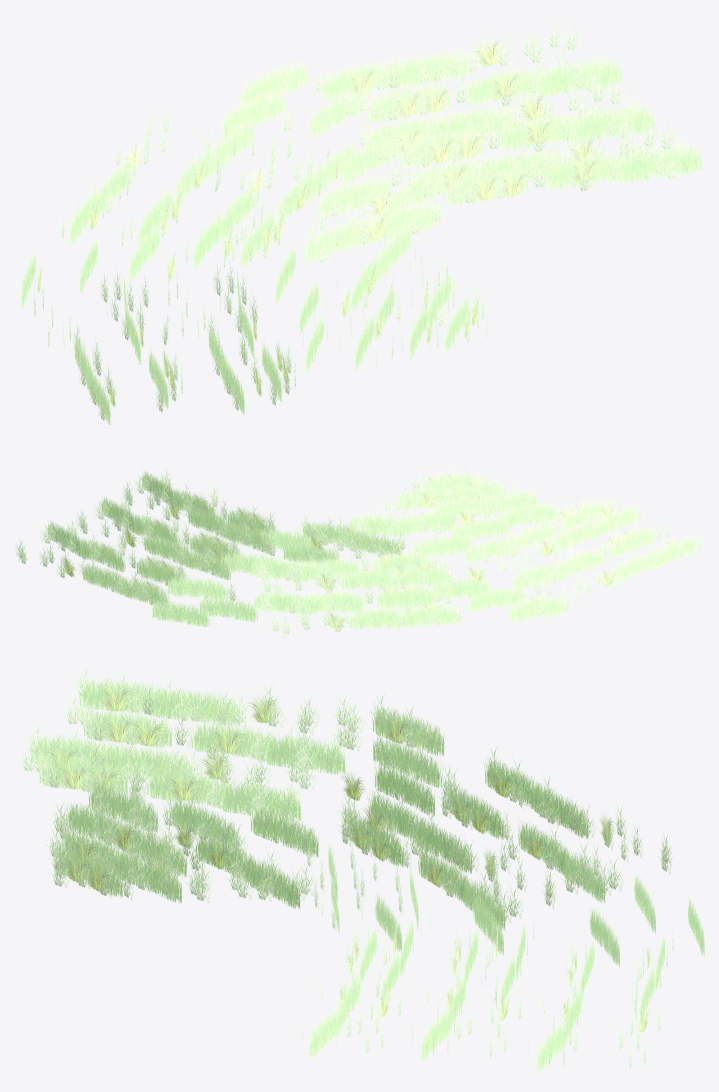
The model's file is Grama.glb.
The picture shows the model from 3 angles, top to bottom: view 1: azimuth 30°, elevation 25°; view 2: azimuth 150°, elevation 25°; view 3: azimuth 270°, elevation 25°; orthographic projection. The views are drawn at different scales.
Visible parts, largest first — view 1: GramaC.017, GramaC.024, GramaC.030, GramaC.028, GramaC.022, GramaC.016, GramaC.023, GramaC.029, GramaC.018, GramaC.055, GramaC.054, GramaC.011 (+28 smaller); view 2: GramaC.049, GramaC.031, GramaC.007, GramaC.048, GramaC.054, GramaC.055, GramaC, GramaC.051, GramaC.047, GramaC.052, GramaC.010, GramaC.053 (+44 smaller); view 3: GramaC.039, GramaC.036, GramaC.041, GramaC.034, GramaC.035, GramaC.040, GramaC.047, GramaC.038, GramaC.051, GramaC.037, GramaC.009, GramaC.052 (+29 smaller).
Boxes of the visible parts, x1=… form: GramaC.017: x1=615, y1=144, x2=703, y2=183; GramaC.024: x1=568, y1=103, x2=655, y2=143; GramaC.030: x1=536, y1=57, x2=622, y2=97; GramaC.028: x1=386, y1=49, x2=471, y2=89; GramaC.022: x1=430, y1=103, x2=515, y2=142; GramaC.016: x1=542, y1=151, x2=629, y2=189; GramaC.023: x1=496, y1=111, x2=582, y2=151; GramaC.029: x1=463, y1=65, x2=549, y2=104; GramaC.018: x1=316, y1=175, x2=391, y2=218; GramaC.055: x1=238, y1=60, x2=309, y2=108; GramaC.054: x1=219, y1=88, x2=286, y2=138; GramaC.011: x1=442, y1=166, x2=529, y2=205; GramaC.049: x1=304, y1=591, x2=366, y2=613; GramaC.031: x1=167, y1=576, x2=228, y2=599; GramaC.007: x1=396, y1=511, x2=457, y2=534; GramaC.048: x1=376, y1=586, x2=437, y2=608; GramaC.054: x1=199, y1=596, x2=258, y2=621; GramaC.055: x1=152, y1=600, x2=210, y2=627; GramaC: x1=399, y1=604, x2=458, y2=627; GramaC.051: x1=467, y1=585, x2=526, y2=611; GramaC.047: x1=413, y1=533, x2=473, y2=557; GramaC.052: x1=508, y1=594, x2=566, y2=621; GramaC.010: x1=450, y1=515, x2=509, y2=541; GramaC.053: x1=431, y1=576, x2=492, y2=599; GramaC.039: x1=150, y1=687, x2=240, y2=726; GramaC.036: x1=218, y1=780, x2=302, y2=821; GramaC.041: x1=263, y1=733, x2=346, y2=774; GramaC.034: x1=101, y1=743, x2=192, y2=780; GramaC.035: x1=145, y1=768, x2=234, y2=808; GramaC.040: x1=189, y1=721, x2=278, y2=762; GramaC.047: x1=249, y1=806, x2=319, y2=857; GramaC.038: x1=76, y1=677, x2=169, y2=715; GramaC.051: x1=372, y1=735, x2=443, y2=787; GramaC.037: x1=81, y1=708, x2=173, y2=748; GramaC.009: x1=87, y1=782, x2=158, y2=832; GramaC.052: x1=371, y1=706, x2=445, y2=756.
Bounding box in the file's own units: 26.97 × 1.53 × 20.8.
1 material, 1 textured.
